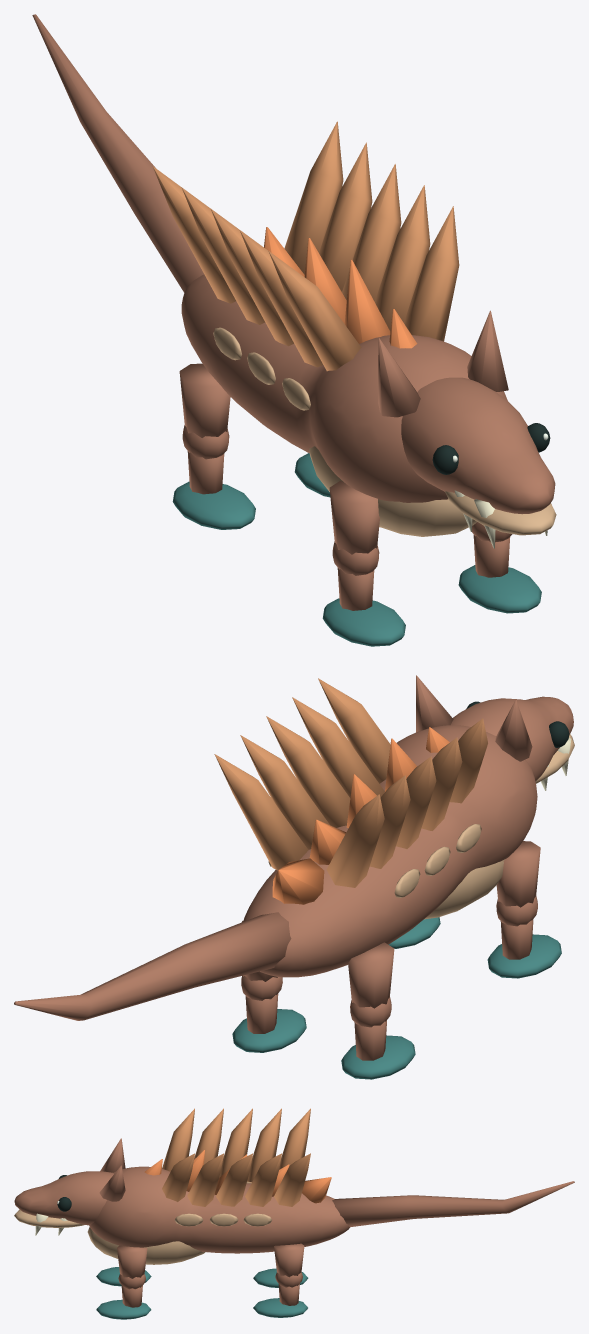
File: riftstalker.glb
The picture shows the model from 3 angles, top to bottom: view 1: azimuth 30°, elevation 25°; view 2: azimuth 150°, elevation 25°; view 3: azimuth 270°, elevation 25°; orthographic projection. The views are drawn at different scales.
Parts seen in each view (by area): view 1: riftstalker_LeanPredator, riftstalker_PredatorHead, riftstalker_PredatorTail, SplitMane.005, SplitMane.009, SplitMane, SplitMane.006, SplitMane.008, SplitMane.007, riftstalker_PredatorChest, riftstalker_UpperLeg.003, riftstalker_UpperLeg.001 (+17 smaller); view 2: riftstalker_LeanPredator, riftstalker_PredatorTail, riftstalker_PredatorHead, SplitMane.009, SplitMane.007, SplitMane.008, SplitMane.006, SplitMane.004, SplitMane.005, riftstalker_UpperLeg.003, riftstalker_UpperLeg.001, riftstalker_EmberMane.004 (+20 smaller); view 3: riftstalker_LeanPredator, riftstalker_PredatorTail, riftstalker_PredatorHead, riftstalker_PredatorChest, SplitMane.006, SplitMane.009, SplitMane.008, SplitMane.007, SplitMane.003, SplitMane.002, SplitMane, SplitMane.004 (+20 smaller).
Part boxes in pixels (x1,y1,x2,y2): riftstalker_LeanPredator: (181, 274, 507, 502); riftstalker_PredatorHead: (401, 377, 555, 514); riftstalker_PredatorTail: (32, 14, 203, 292); SplitMane.005: (404, 206, 459, 341); SplitMane.009: (284, 121, 343, 274); SplitMane: (268, 251, 361, 371); SplitMane.006: (375, 185, 430, 331); SplitMane.008: (319, 142, 372, 291); SplitMane.007: (342, 164, 401, 301); riftstalker_PredatorChest: (309, 446, 476, 536); riftstalker_UpperLeg.003: (179, 363, 230, 437); riftstalker_UpperLeg.001: (329, 480, 379, 554); riftstalker_LeanPredator: (243, 725, 537, 977); riftstalker_PredatorTail: (14, 912, 291, 1020); riftstalker_PredatorHead: (451, 696, 573, 781); SplitMane.009: (214, 754, 308, 870); SplitMane.007: (266, 716, 350, 827); SplitMane.008: (240, 735, 329, 849); SplitMane.006: (292, 697, 384, 797); SplitMane.004: (326, 794, 384, 887); SplitMane.005: (318, 678, 390, 783); riftstalker_UpperLeg.003: (348, 942, 394, 1008); riftstalker_UpperLeg.001: (496, 841, 540, 907); riftstalker_EmberMane.004: (272, 858, 324, 904); riftstalker_LeanPredator: (89, 1166, 349, 1253); riftstalker_PredatorTail: (332, 1181, 574, 1227); riftstalker_PredatorHead: (14, 1171, 113, 1225); riftstalker_PredatorChest: (87, 1227, 205, 1264); SplitMane.006: (187, 1153, 223, 1206); SplitMane.009: (274, 1153, 310, 1206); SplitMane.008: (245, 1153, 281, 1206); SplitMane.007: (216, 1153, 252, 1206); SplitMane.003: (247, 1108, 281, 1182); SplitMane.002: (219, 1108, 252, 1177); SplitMane: (162, 1108, 194, 1171); SplitMane.004: (279, 1108, 310, 1169).
Bounding box in the file's own units: 1.15 × 1.85 × 5.58.
